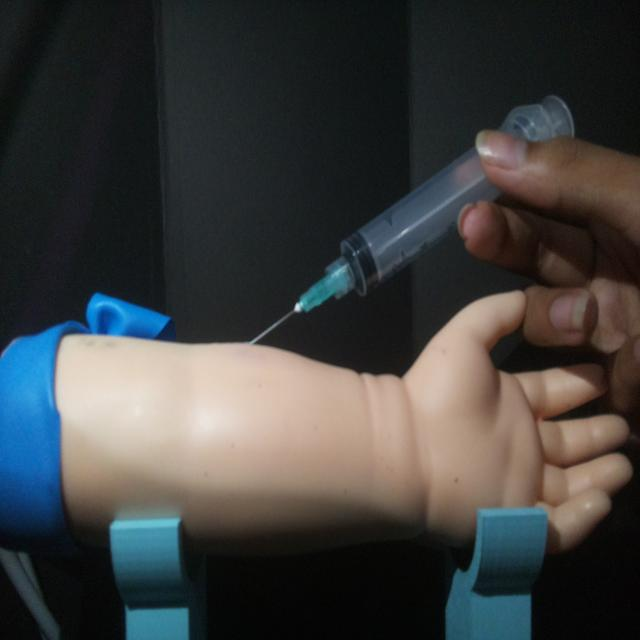28deg: (243, 90, 578, 348)
